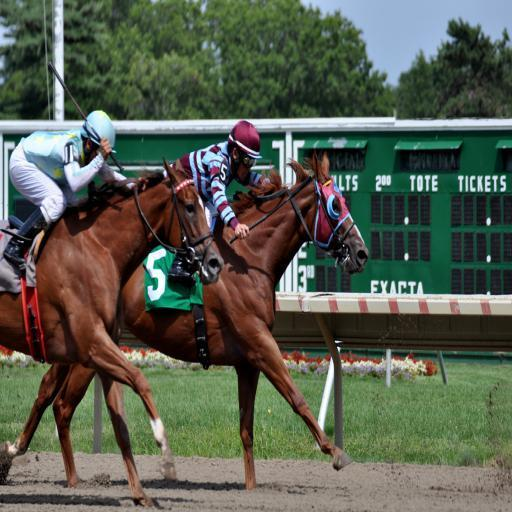horse: (50, 145, 370, 493), (0, 150, 223, 511)
